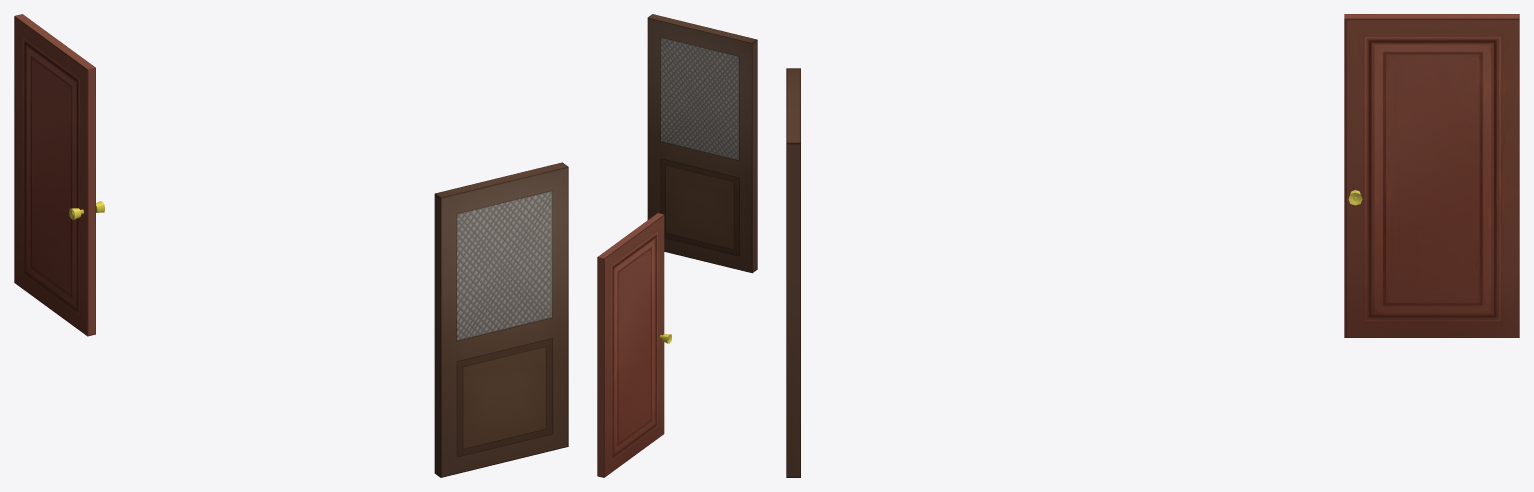
The model's file is Level01_Door.fbx.
3 views of the same model, side by side, from view 1: azimuth 30°, elevation 25°; view 2: azimuth 150°, elevation 25°; view 3: azimuth 270°, elevation 25° (orthographic). The views are drawn at different scales.
Parts seen in each view (by area): view 1: Door002, Door001; view 2: Door002, Door001; view 3: Door001, Door002.
Part boxes in pixels (<box>): Door002: <box>434,162,568,477</box>; Door001: <box>14,14,95,336</box>; Door002: <box>647,14,757,273</box>; Door001: <box>597,213,664,477</box>; Door001: <box>1344,14,1519,337</box>; Door002: <box>786,68,800,477</box>.
Bounding box in the file's own units: 66.39 × 68.63 × 136.
